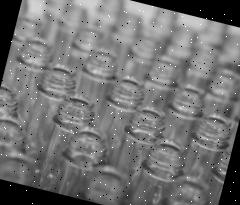glass: (0, 28, 240, 205)
